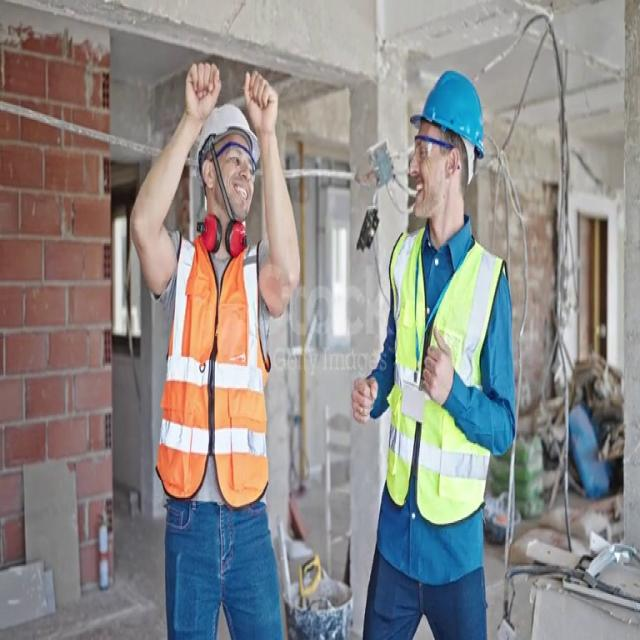capacete: (407, 59, 494, 188), (194, 88, 267, 178)
